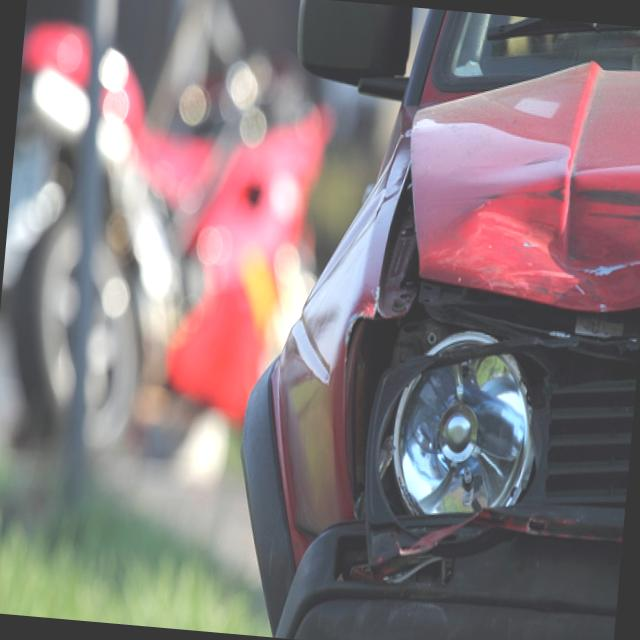Vehicle: (219, 0, 640, 640), (0, 16, 343, 475)
